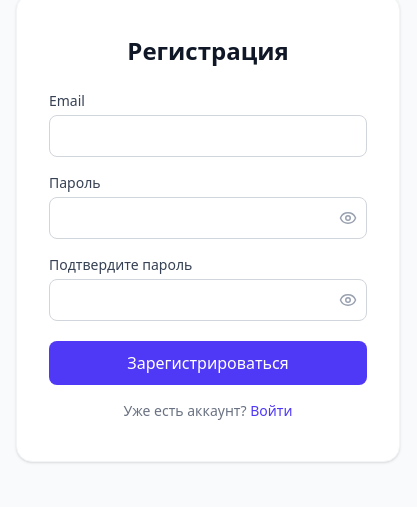
RegisterPage › показывает ошибку при неудачной регистрации
Type "taken@test.com" into the field labelled "Email".
click(208, 136); type("taken@test.com")  # box [49,115,367,157]
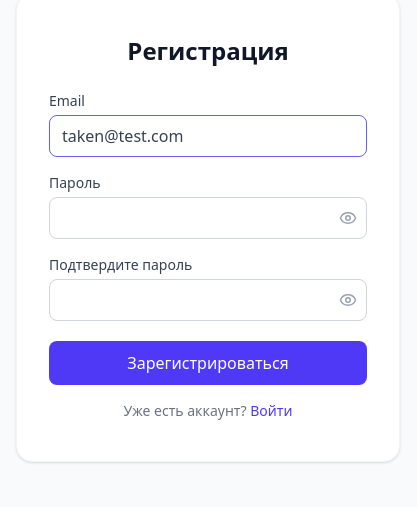
Type "password123" into the password field labelled "Пароль".
click(208, 218); type("password123")  # box [49,197,367,239]
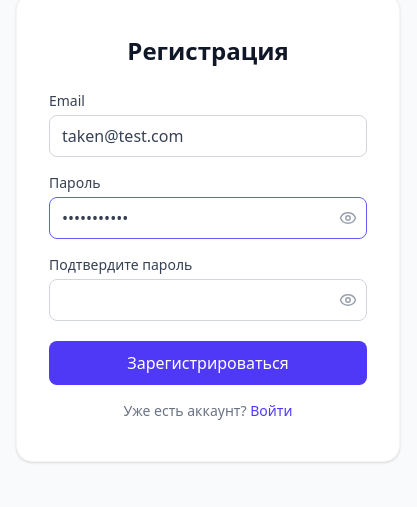
Type "password123" into the password field labelled "Подтвердите пароль".
click(208, 300); type("password123")  # box [49,279,367,321]
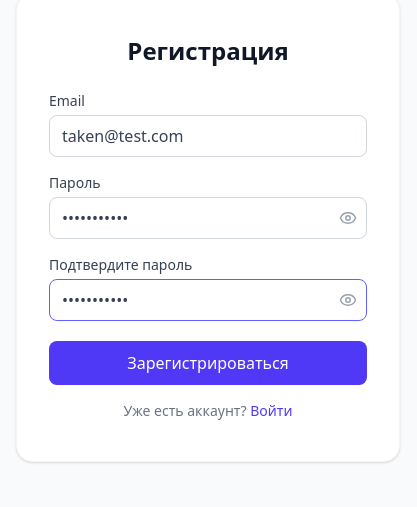
Click the button "Зарегистрироваться".
click(208, 363)  # box [49,341,367,385]
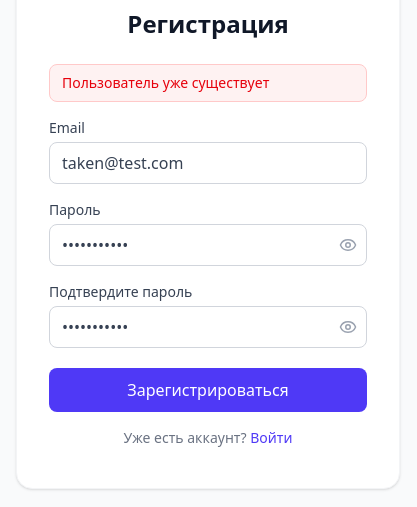
Check: the message reads "Пользователь уже существует", box [62,73,269,92]
